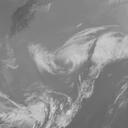cyclone: (30, 24, 118, 76)
